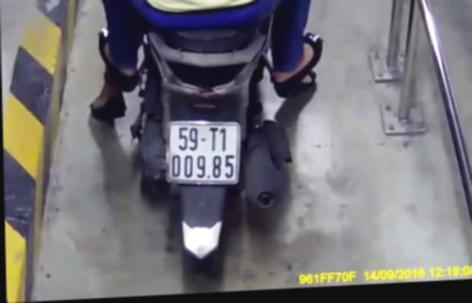License_Plate: (156, 115, 247, 194)
